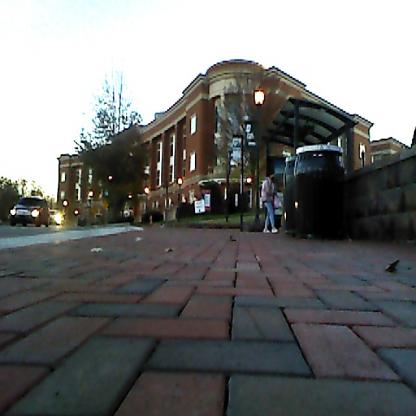Edge: (283, 220, 416, 263)
Sidewalk: (0, 228, 416, 416)
